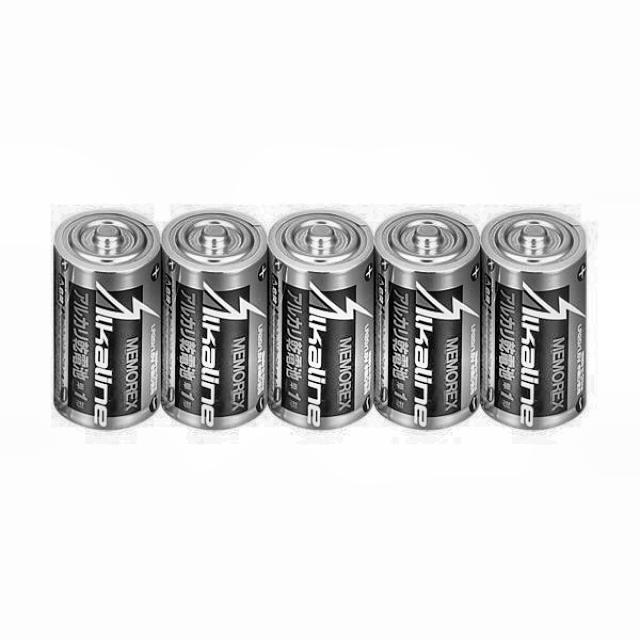drycell: (52, 206, 165, 428), (162, 205, 271, 427)
